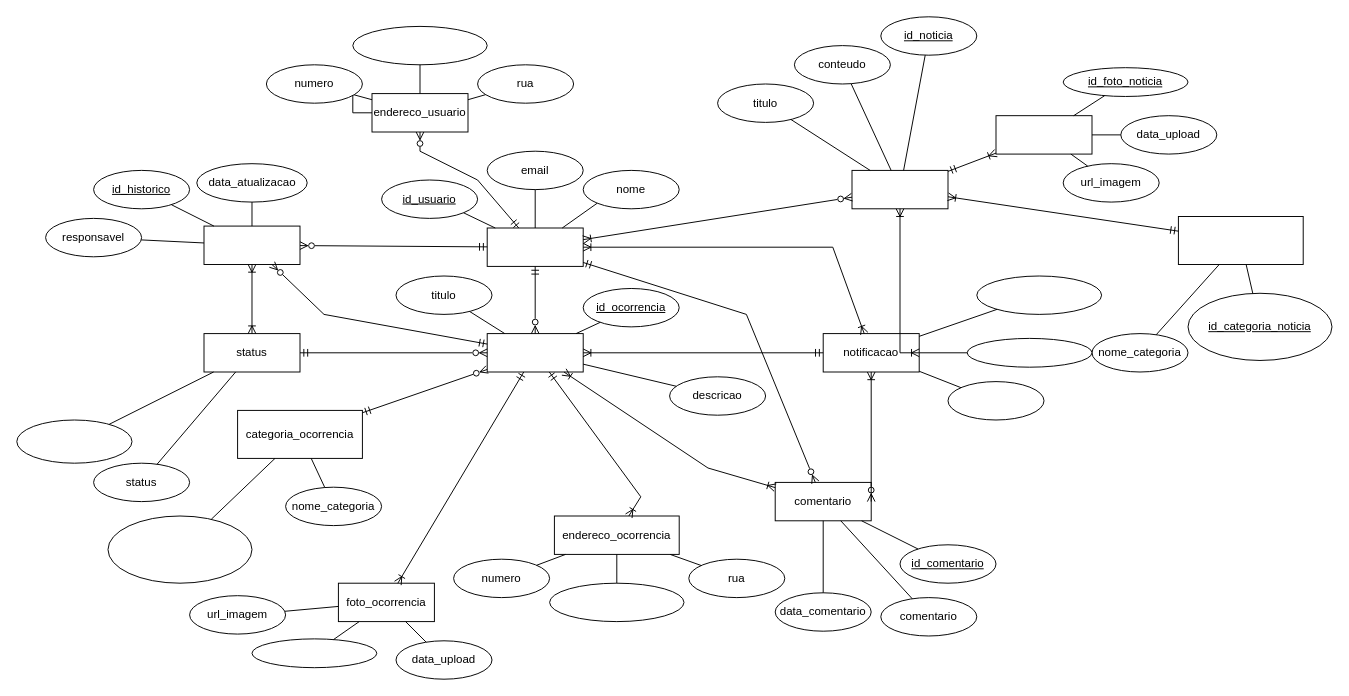
This 1349x696 diagram has some shape labels left out. The shapes that lost their labels are listed below. From the top down, each one's centre as x and y in pixels, then its label:
At pixel 419 45: "id_endereco_usuario".
At pixel 1043 134: "foto_noticia".
At pixel 899 189: "noticia".
At pixel 251 244: "historico".
At pixel 534 246: "usuario".
At pixel 1240 240: "categoria_noticia".
At pixel 1039 294: "conteudo_notificacao".
At pixel 534 352: "ocorrencia".
At pixel 1029 352: "id_notificacao".
At pixel 995 400: "data_envio".
At pixel 74 441: "id_status".
At pixel 179 549: "id_categoria_ocorrencia".
At pixel 616 602: "id_endereco_ocorrencia".
At pixel 314 653: "id_foto_ocorrencia".
